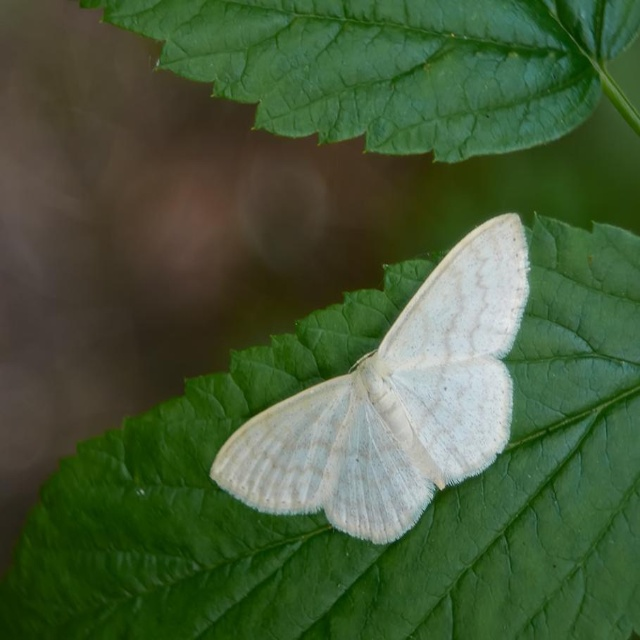Butterfly: (209, 212, 531, 545)
